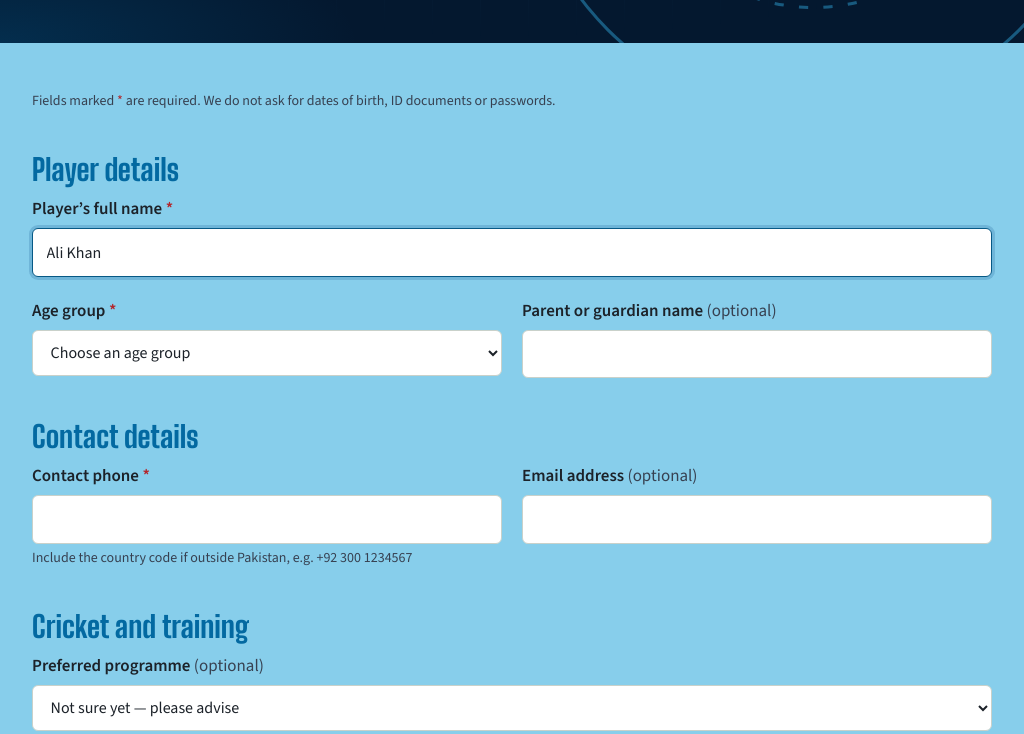
Test: Registration form › shows the server’s error message when submission fails
Earlier steps of the test are not shown.
(page scrolled)
Select "Adult (19 and over)" in the dropdown labelled "Age group *" at (267, 353), box [32,330,502,376]
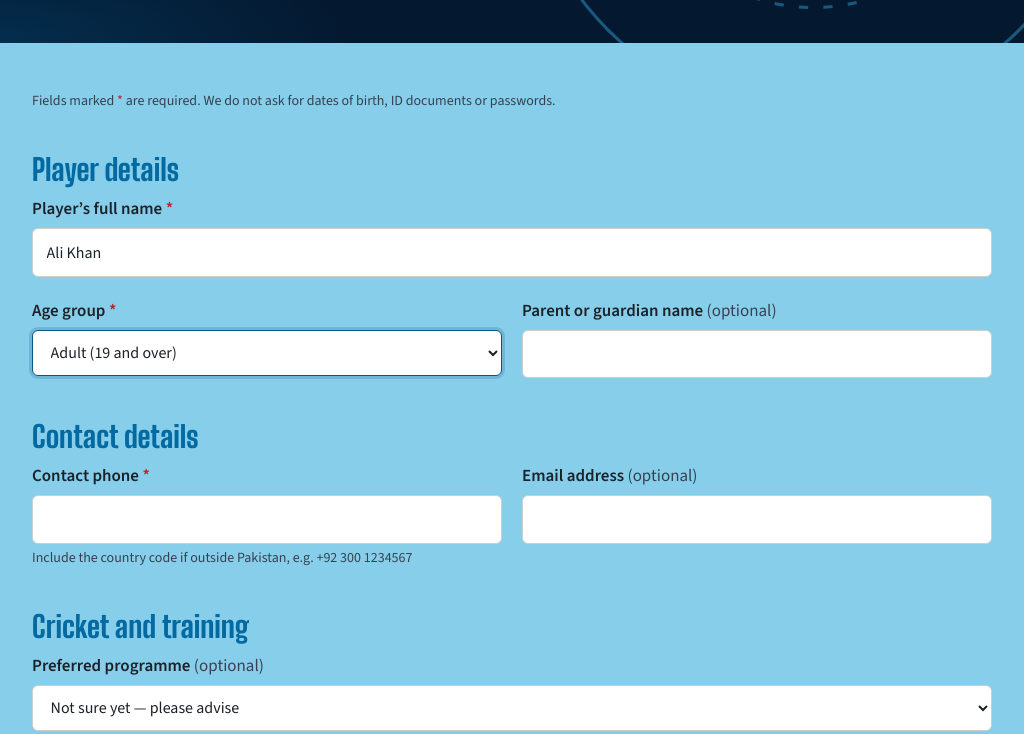
Type "+92 300 1234567" into the field labelled "Contact phone *".
click(267, 520); type("+92 300 1234567")  # box [32,495,502,544]
(page scrolled)
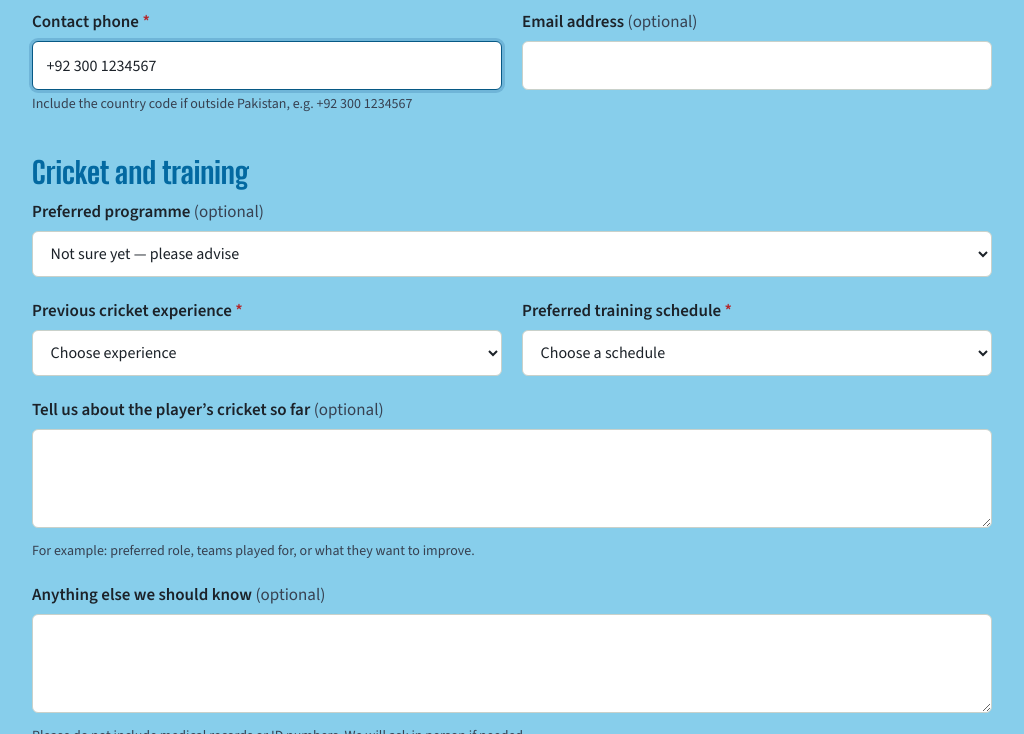
Select "Club cricket" in the dropdown labelled "Previous cricket experience *" at (267, 353), box [32,330,502,376]
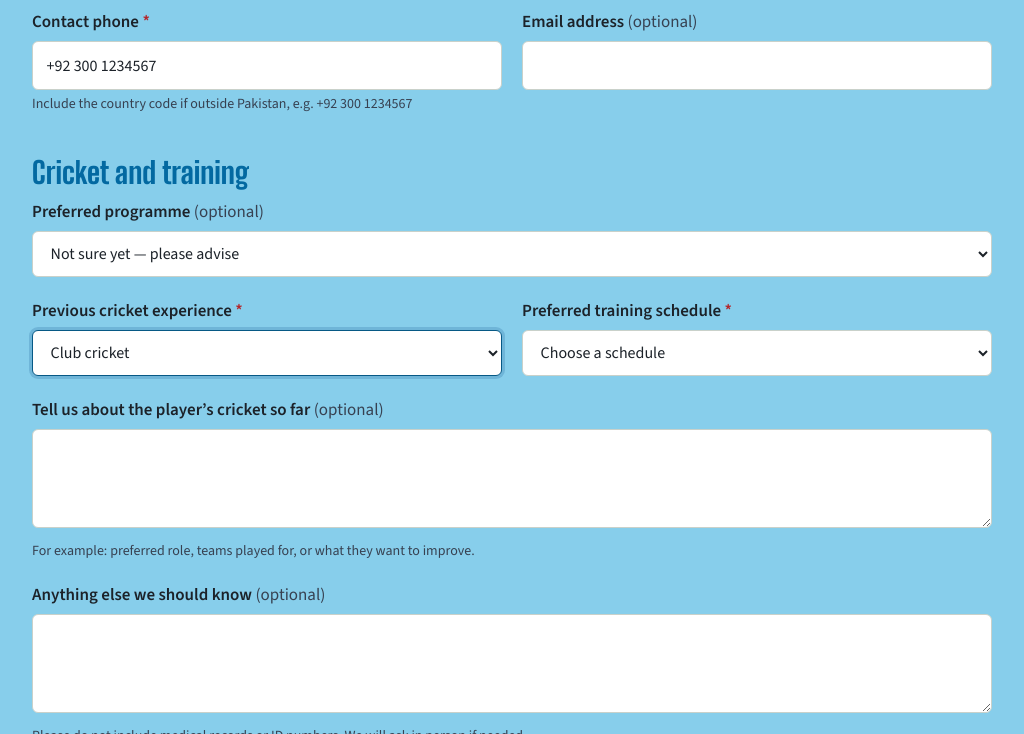
Select "Weekends" in the dropdown labelled "Preferred training schedule *" at (757, 353), box [522,330,992,376]
(page scrolled)
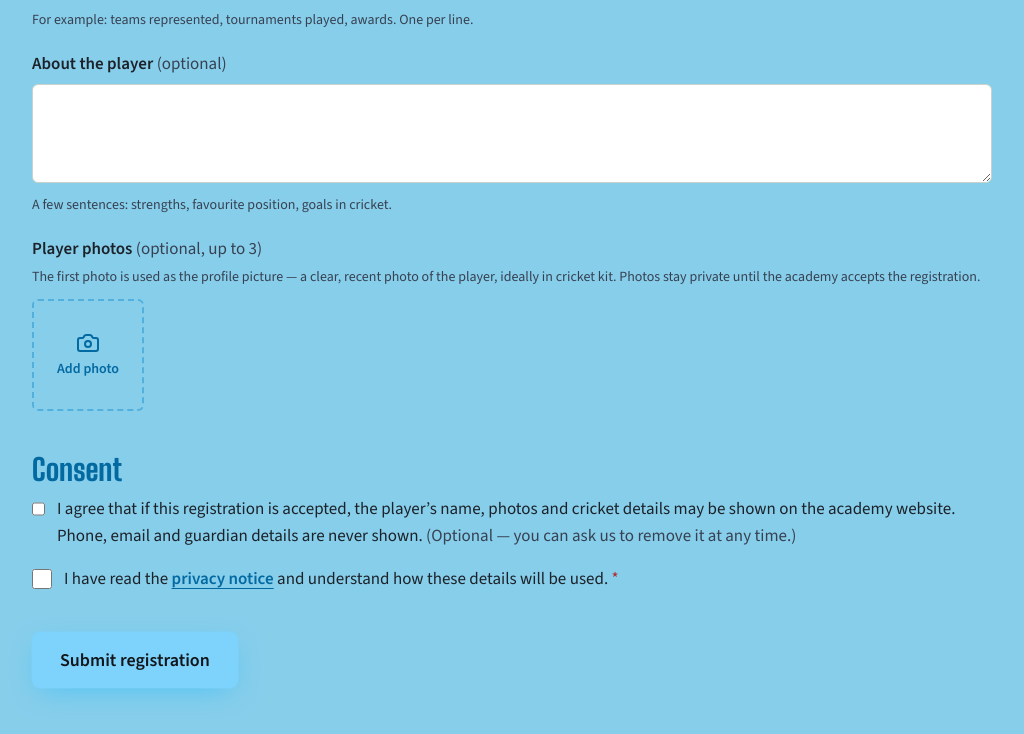
Click the checkbox labelled "privacy notice".
click(42, 579)  # box [32,569,52,589]
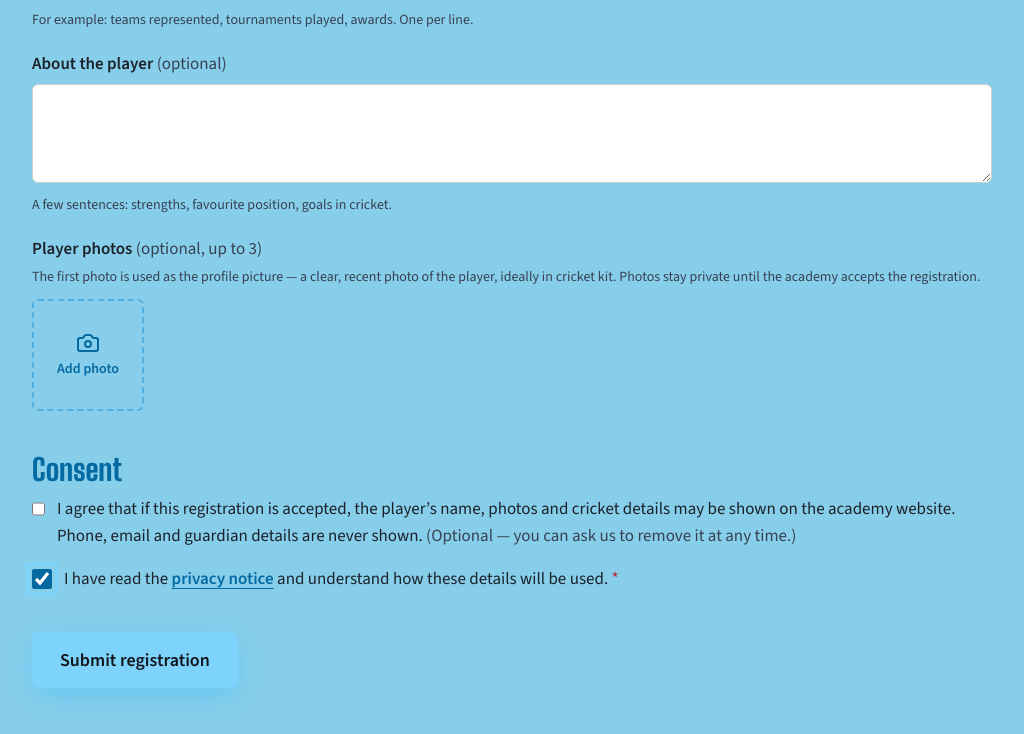
Click the button "Submit registration".
click(135, 660)  # box [32,632,238,688]
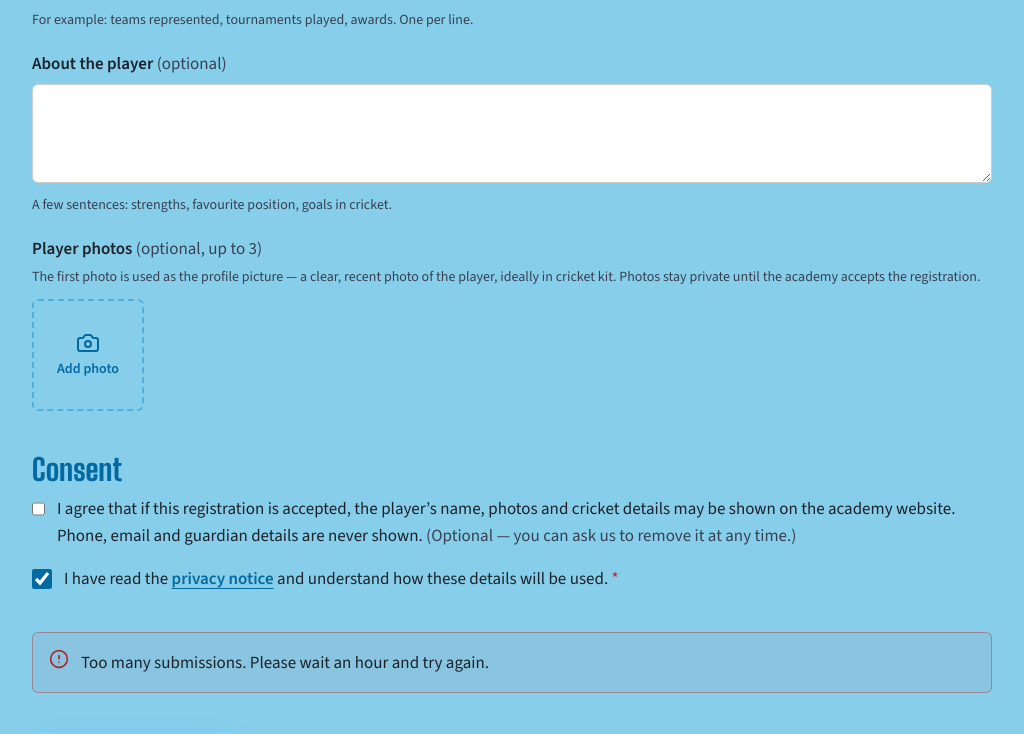
Expected: the text "Too many submissions. Please wait an hour and try again." is shown, [81,649,489,676]
